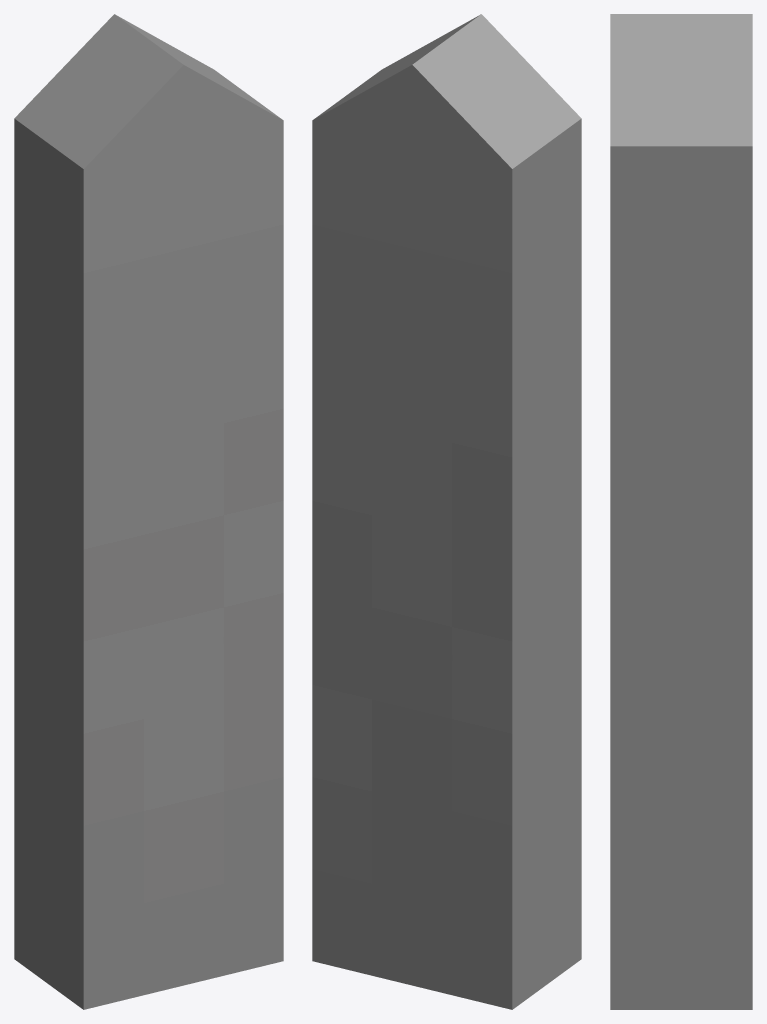
The model's file is sword.glb.
The picture shows the model from 3 angles, left to right: view 1: azimuth 30°, elevation 25°; view 2: azimuth 150°, elevation 25°; view 3: azimuth 270°, elevation 25°; orthographic projection. The views are drawn at different scales.
Visible parts, largest first — view 1: group; view 2: group; view 3: group.
Part boxes in pixels (x1=…): group: x1=14, y1=14, x2=283, y2=1009; group: x1=312, y1=14, x2=581, y2=1009; group: x1=610, y1=14, x2=752, y2=1009.
Bounding box in the file's own units: 2.5 × 11 × 1.5.
Materials: 1 (1 with a texture image).
